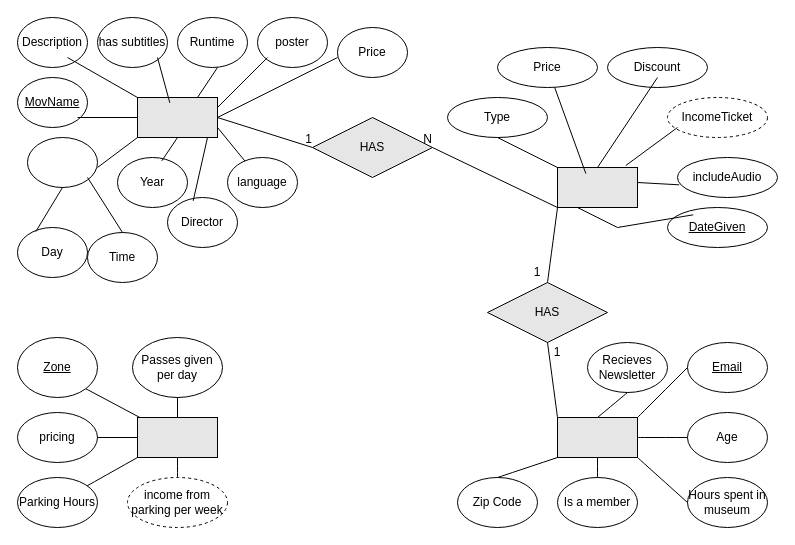
Image size: 795x545. Some labels were removed from this diagram. Here are the shapes that lost their labels. From the top down, the box of each, then its label:
(136, 96, 218, 138): MOVIES
(26, 136, 98, 188): Showtimes
(556, 166, 638, 208): TICKET
(136, 416, 218, 458): Parking
(556, 416, 638, 458): Visitors
